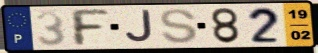2: (246, 5, 286, 46)
3: (35, 9, 68, 47)
8: (209, 7, 241, 45)
F: (67, 8, 112, 48)
J: (124, 9, 156, 45)
S: (158, 8, 200, 45)
